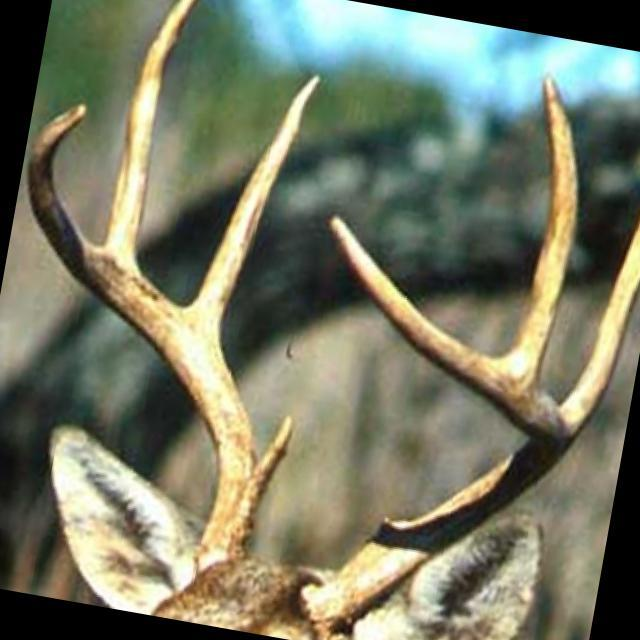L-F: (297, 213, 570, 636)
L-G1: (559, 214, 640, 442)
L-G2: (495, 71, 580, 385)
R-F: (26, 102, 256, 574)
R-G1: (257, 413, 292, 488)
R-G2: (178, 69, 323, 350)
R-G3: (100, 0, 202, 279)
